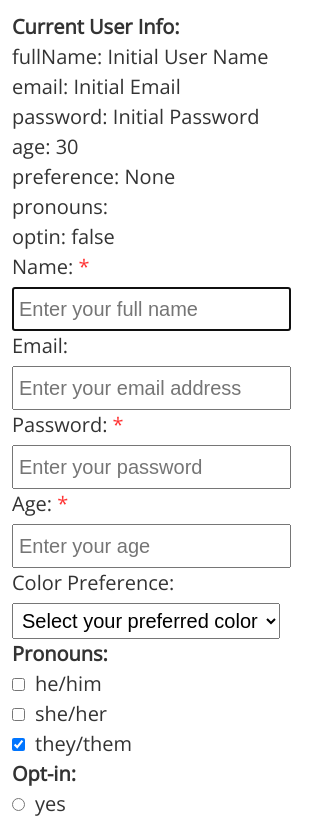
Test: form tests › shows error when age is too young
Type "11" into the number field with placeholder "Enter your age" at (152, 546), box [12,524,291,568]
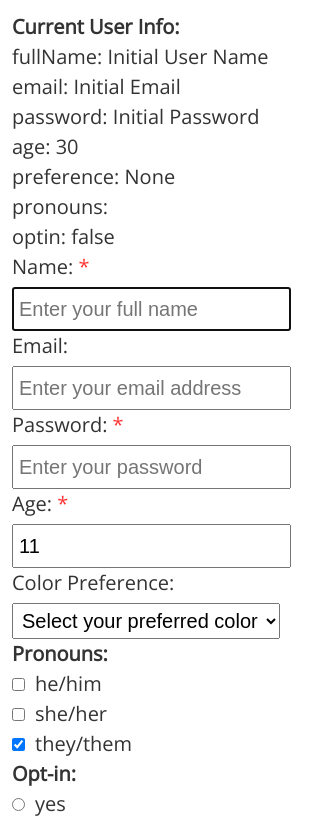
Leave the number field with placeholder "Enter your age", box [12,524,291,568]
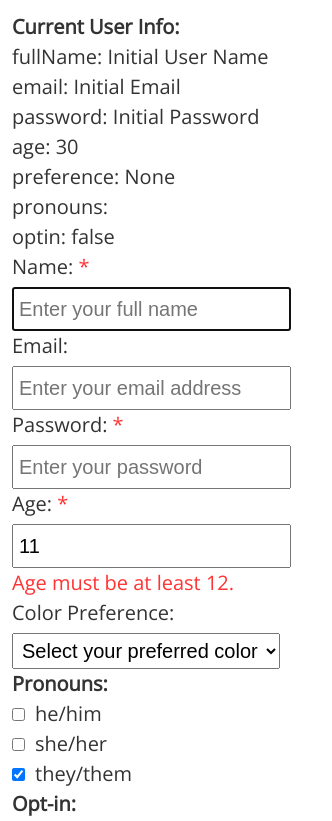
Expected: the text "Age must be at least 12." is shown, [12,569,234,596]
